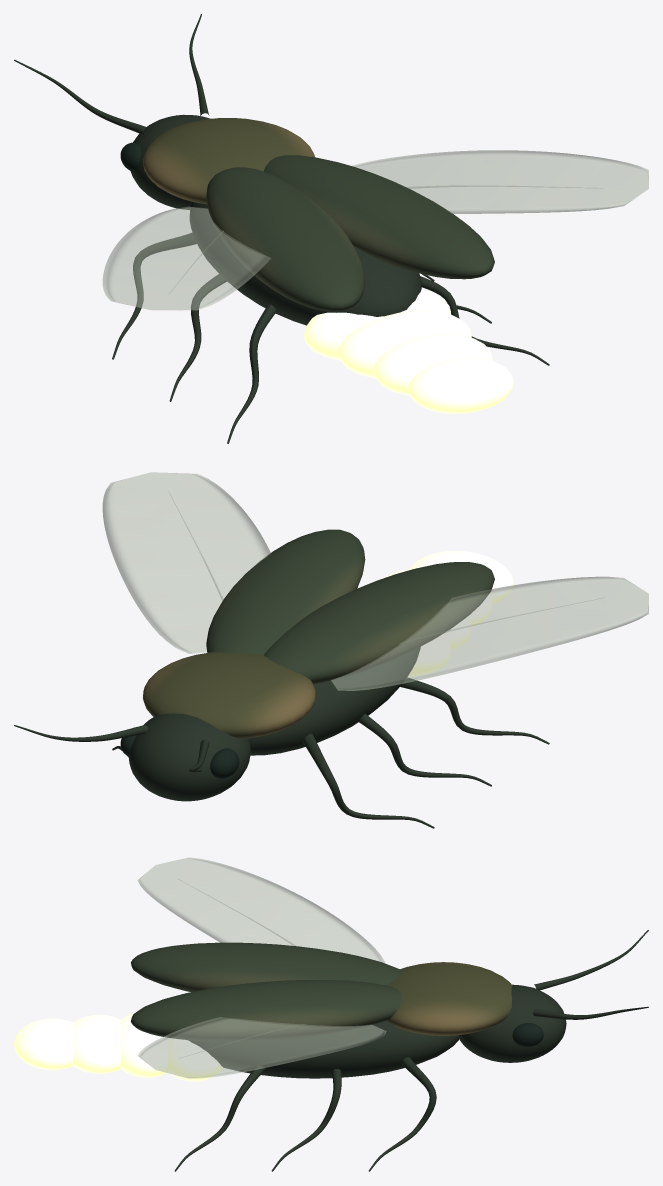
The model's file is firefly.glb.
3 views of the same model, one above another, from view 1: azimuth 30°, elevation 25°; view 2: azimuth 150°, elevation 25°; view 3: azimuth 270°, elevation 25° (orthographic). The views are drawn at different scales.
Visible parts, largest first — view 1: Luminous abdomen, Left protective wing cover, Right membranous wing, Right protective wing cover, Left membranous wing, Flattened protective head shield, Elongated thorax, Fine articulated leg (×4), Small beetle head, Curved antenna; view 2: Right membranous wing, Left membranous wing, Left protective wing cover, Right protective wing cover, Flattened protective head shield, Small beetle head, Elongated thorax, Luminous abdomen, Fine articulated leg (×3), Curved antenna, Small lateral beetle eye; view 3: Right protective wing cover, Left membranous wing, Right membranous wing, Left protective wing cover, Luminous abdomen, Elongated thorax, Flattened protective head shield, Small beetle head, Fine articulated leg (×3), Curved antenna (×2), Small lateral beetle eye.
Boxes of the visible parts, x1=… form: Luminous abdomen: x1=304, y1=289, x2=513, y2=413; Left protective wing cover: x1=206, y1=167, x2=365, y2=311; Right membranous wing: x1=352, y1=150, x2=648, y2=214; Right protective wing cover: x1=263, y1=155, x2=494, y2=279; Left membranous wing: x1=102, y1=206, x2=270, y2=310; Flattened protective head shield: x1=142, y1=118, x2=314, y2=204; Elongated thorax: x1=190, y1=201, x2=421, y2=325; Fine articulated leg (×4): x1=112, y1=233, x2=549, y2=443; Small beetle head: x1=130, y1=114, x2=210, y2=209; Curved antenna: x1=14, y1=59, x2=146, y2=134; Right membranous wing: x1=102, y1=472, x2=270, y2=653; Left membranous wing: x1=331, y1=576, x2=648, y2=690; Left protective wing cover: x1=264, y1=562, x2=494, y2=683; Right protective wing cover: x1=206, y1=529, x2=365, y2=654; Flattened protective head shield: x1=143, y1=652, x2=315, y2=738; Small beetle head: x1=128, y1=713, x2=250, y2=801; Elongated thorax: x1=248, y1=647, x2=420, y2=755; Luminous abdomen: x1=383, y1=551, x2=513, y2=676; Fine articulated leg (×3): x1=302, y1=677, x2=549, y2=828; Curved antenna: x1=14, y1=725, x2=148, y2=741; Small lateral beetle eye: x1=210, y1=748, x2=239, y2=778; Right protective wing cover: x1=131, y1=980, x2=401, y2=1041; Left membranous wing: x1=137, y1=857, x2=384, y2=962; Right membranous wing: x1=138, y1=1017, x2=386, y2=1078; Left protective wing cover: x1=131, y1=942, x2=401, y2=991; Luminous abdomen: x1=14, y1=1012, x2=222, y2=1081; Elongated thorax: x1=188, y1=1020, x2=459, y2=1078; Flattened protective head shield: x1=386, y1=962, x2=512, y2=1035; Small beetle head: x1=458, y1=984, x2=566, y2=1062; Fine articulated leg (×3): x1=174, y1=1057, x2=436, y2=1171; Curved antenna (×2): x1=533, y1=930, x2=648, y2=1019; Small lateral beetle eye: x1=512, y1=1023, x2=543, y2=1046.
Bounding box in the file's own units: 0.0346 × 0.0101 × 0.0419.
